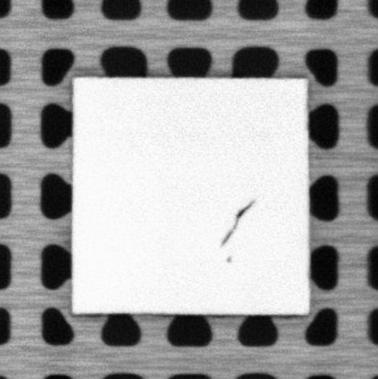DIE_INK: (220, 200, 255, 246), (224, 254, 234, 264)
